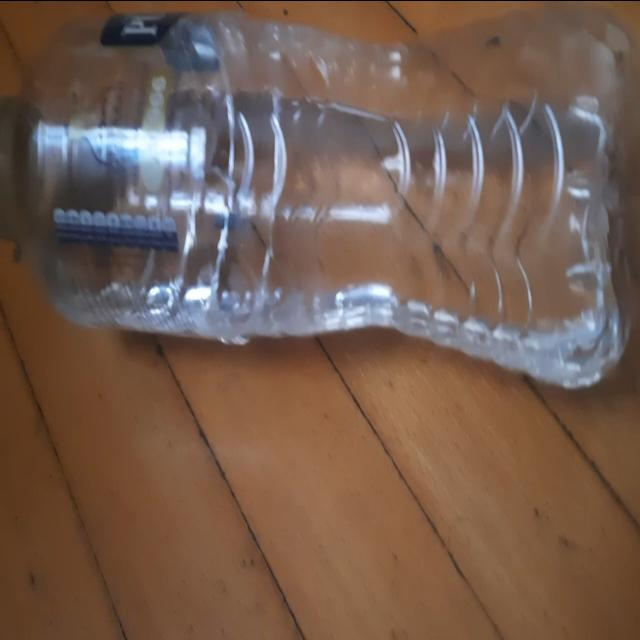Plastic: (0, 5, 640, 390)
